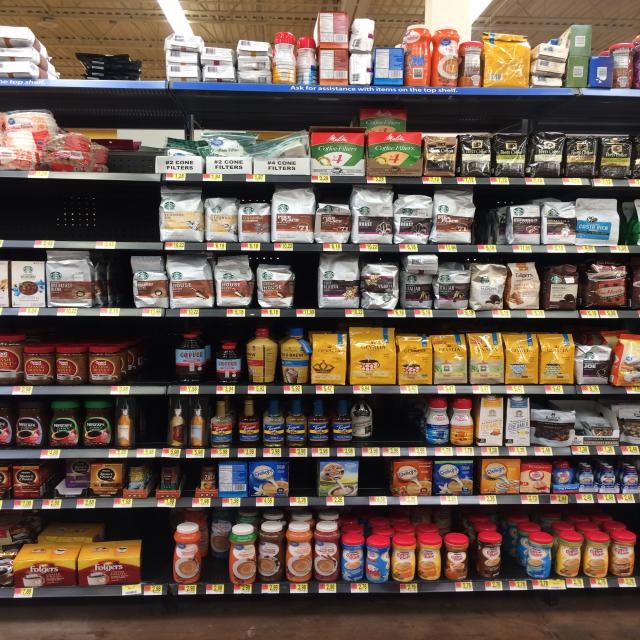void: (0, 183, 158, 241), (126, 320, 168, 382), (381, 398, 423, 441), (478, 189, 502, 242), (366, 459, 391, 493), (292, 460, 313, 498)
